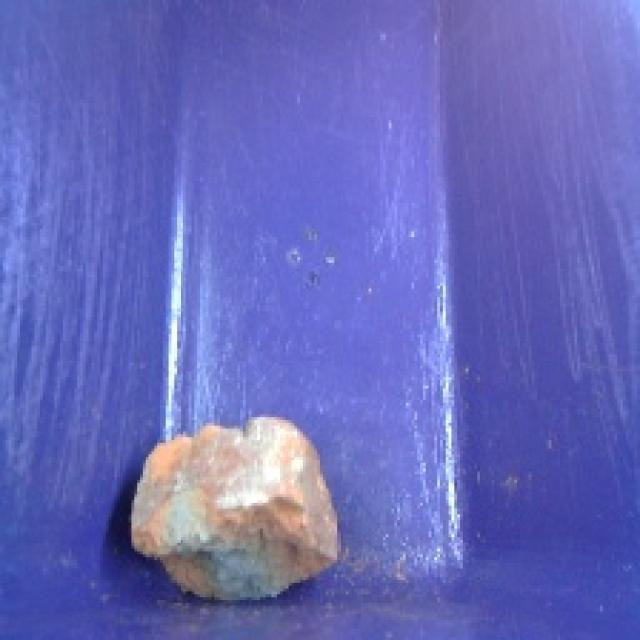brick: (117, 410, 351, 614)
